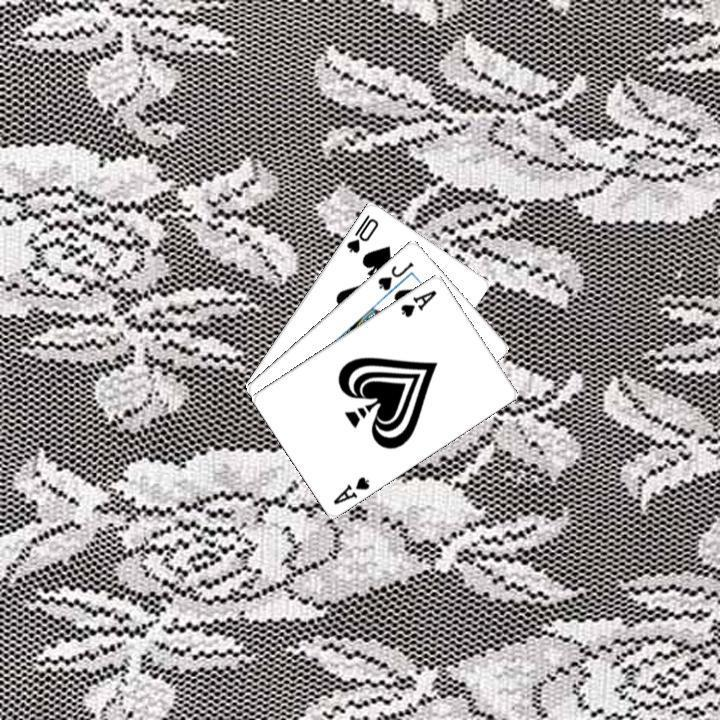10: (342, 210, 381, 255)
A: (329, 471, 372, 506), (396, 285, 439, 319)
J: (373, 257, 416, 292)
